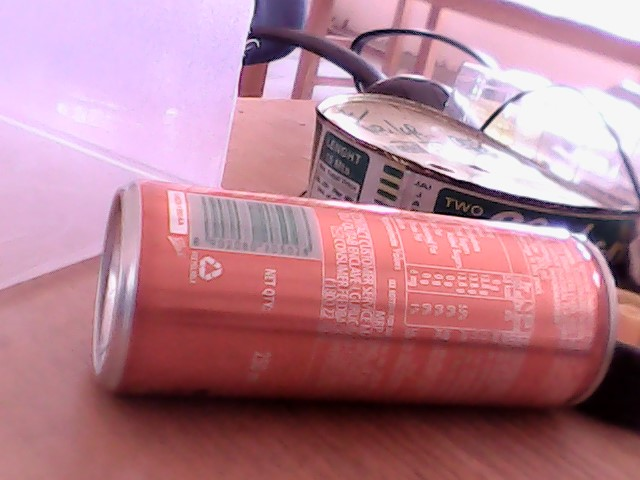Metal: (96, 175, 640, 402)
